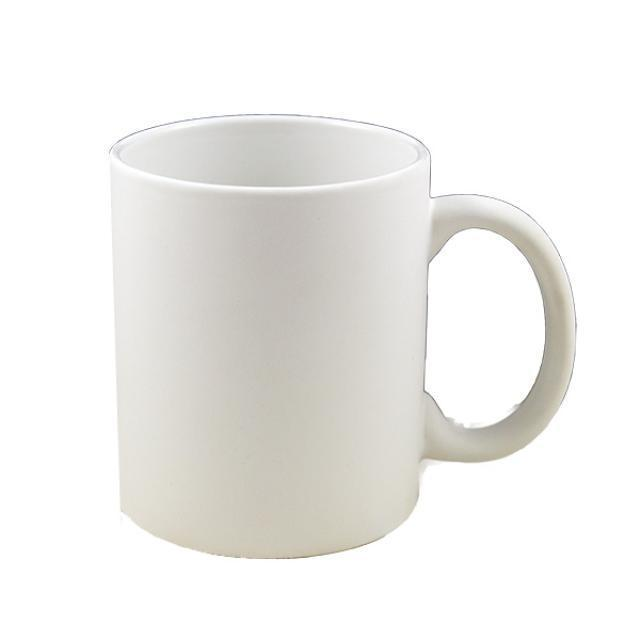Coffee Mug: (108, 114, 577, 559)
